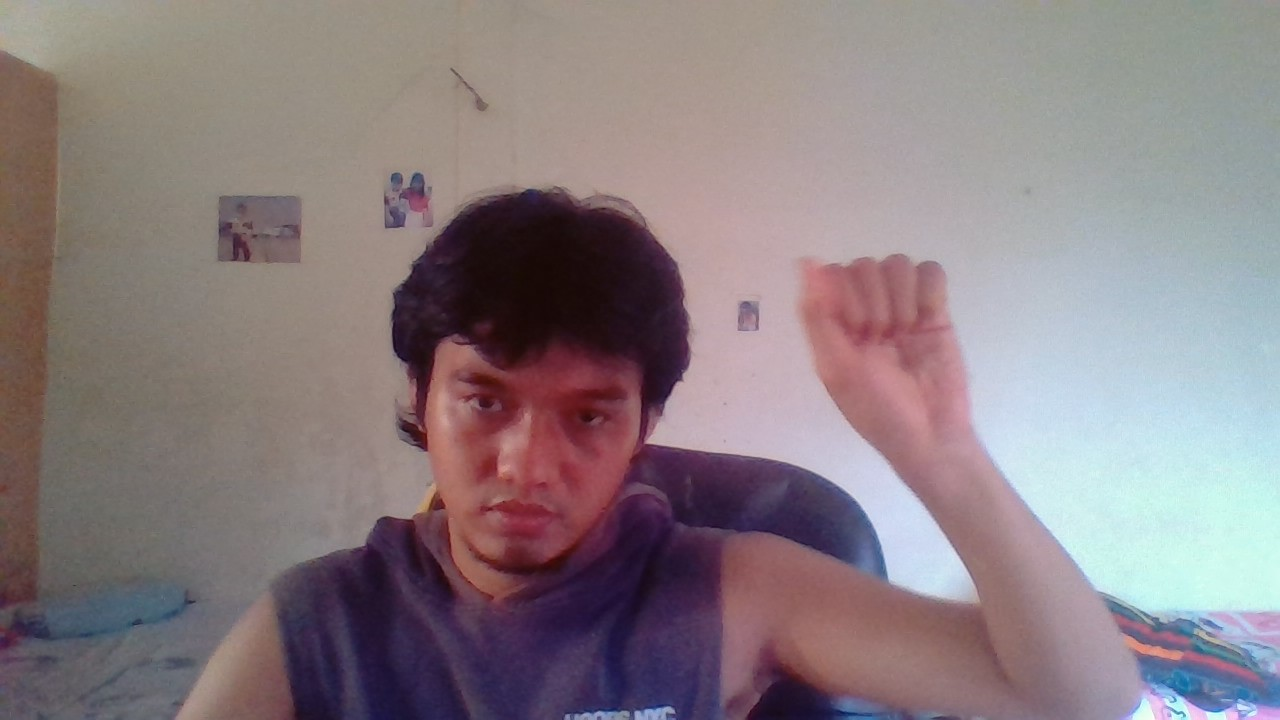A: (774, 230, 997, 459)
